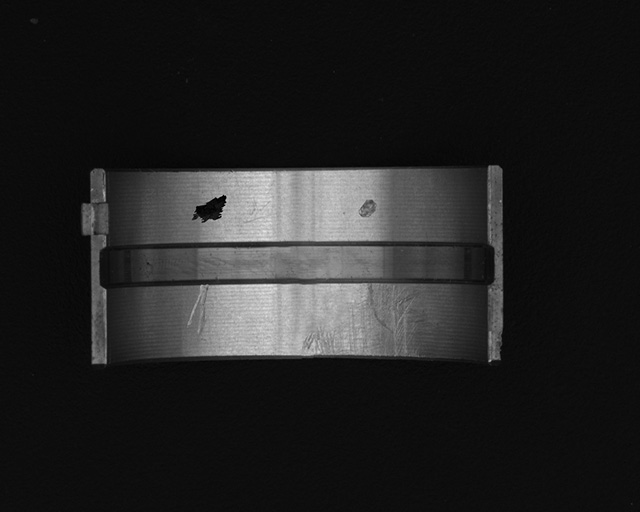blot: (192, 195, 228, 224)
bruise: (358, 198, 378, 218)
gap: (97, 241, 496, 287)
nick: (188, 285, 209, 336)
scratch: (303, 284, 432, 358)
